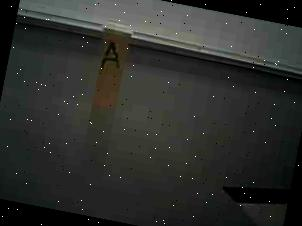Bottle A: (82, 16, 146, 123)
